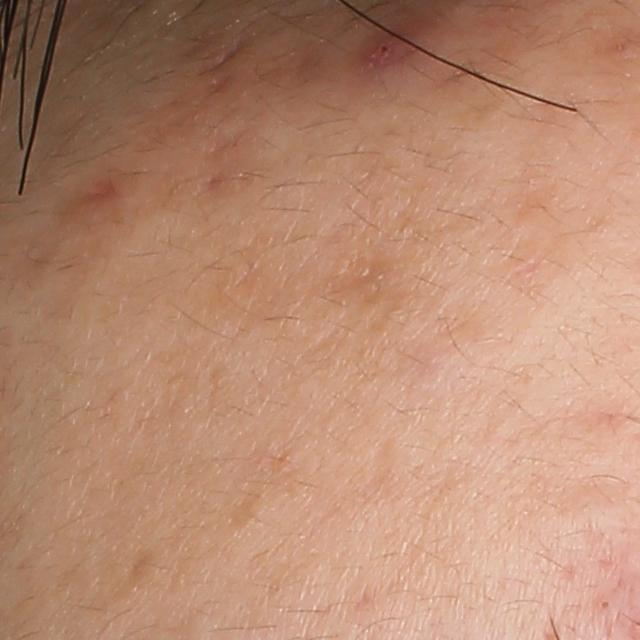comedo: (598, 597, 612, 612)
papule: (361, 32, 407, 68)
